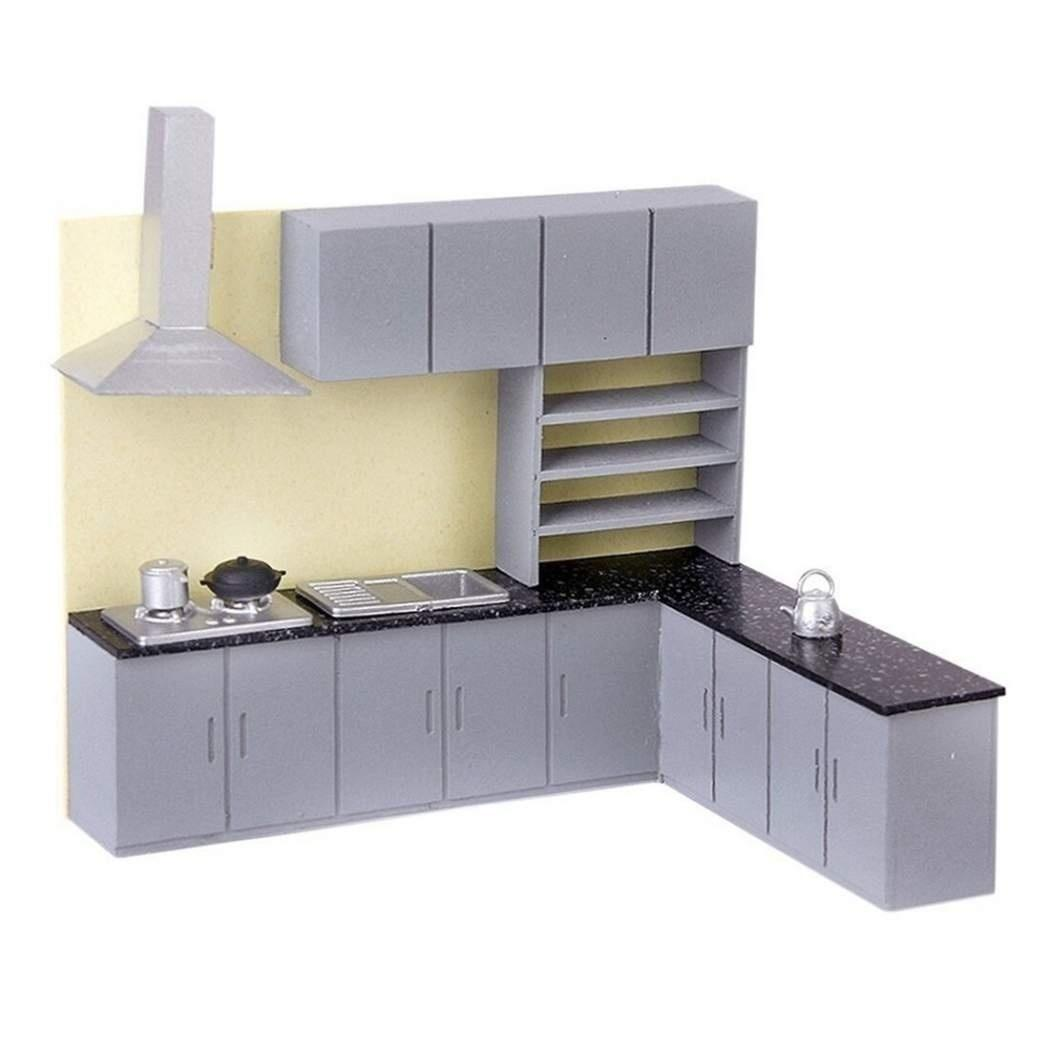cabinet_door: (123, 658, 228, 838), (227, 650, 333, 826), (339, 638, 443, 810), (308, 228, 430, 373), (443, 632, 543, 797), (548, 623, 653, 777), (431, 222, 538, 368), (541, 216, 647, 356), (652, 209, 757, 348), (823, 713, 887, 884), (771, 686, 827, 846), (710, 658, 765, 815), (661, 639, 713, 776)
handle: (200, 709, 219, 769), (235, 706, 253, 767), (556, 670, 575, 725), (451, 680, 469, 738), (420, 682, 437, 740), (827, 751, 844, 808), (696, 684, 713, 741), (808, 744, 825, 800), (717, 692, 734, 745)
